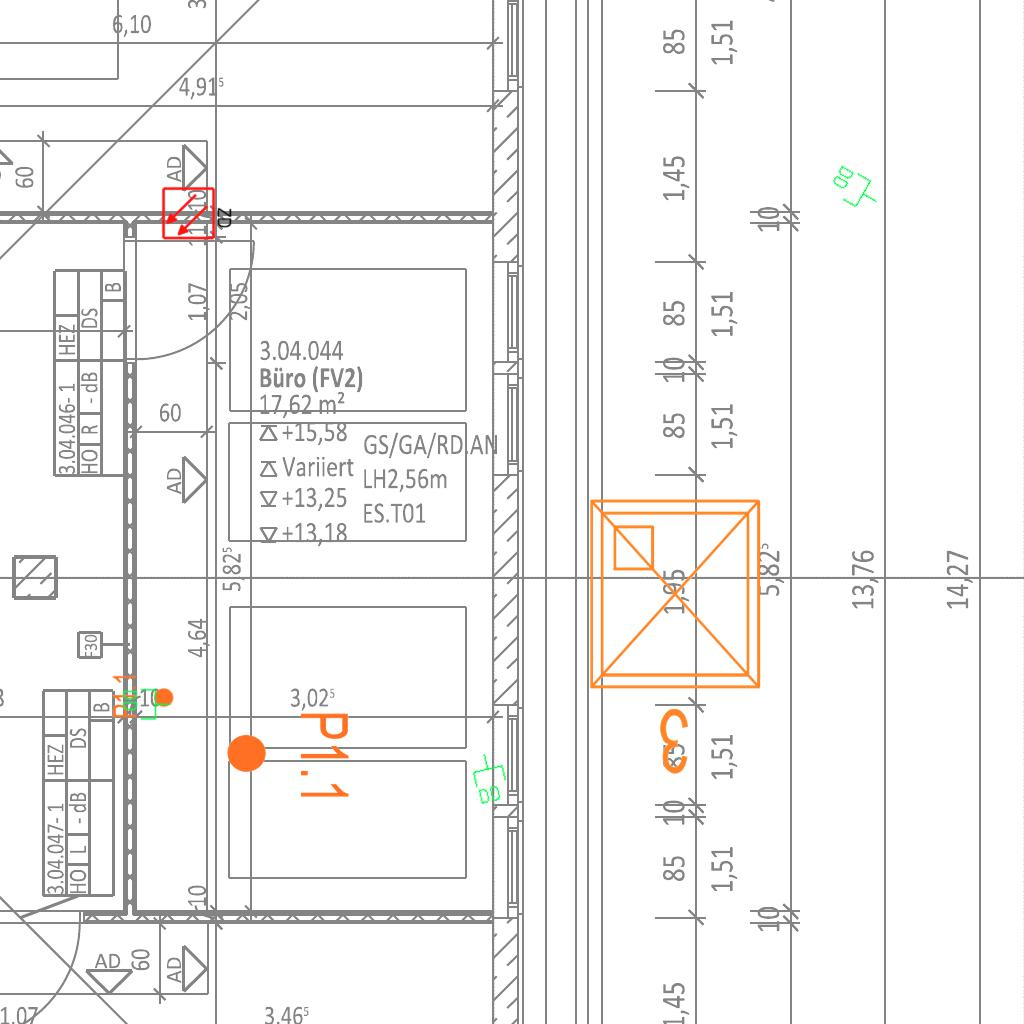Datenanschluss_zweifach: (824, 161, 887, 217), (467, 749, 512, 807), (121, 687, 172, 721)
Downlight_LED_Einbauleuchten_Flur: (224, 710, 352, 803), (111, 673, 175, 719)
Einbaudownlights_LED_Konferenzraeume: (575, 485, 783, 785)
ZD_Melder_in_Zwischendecke_mit_Revisionsoeffnung_mind_40_x_40_cm: (161, 184, 235, 241)
